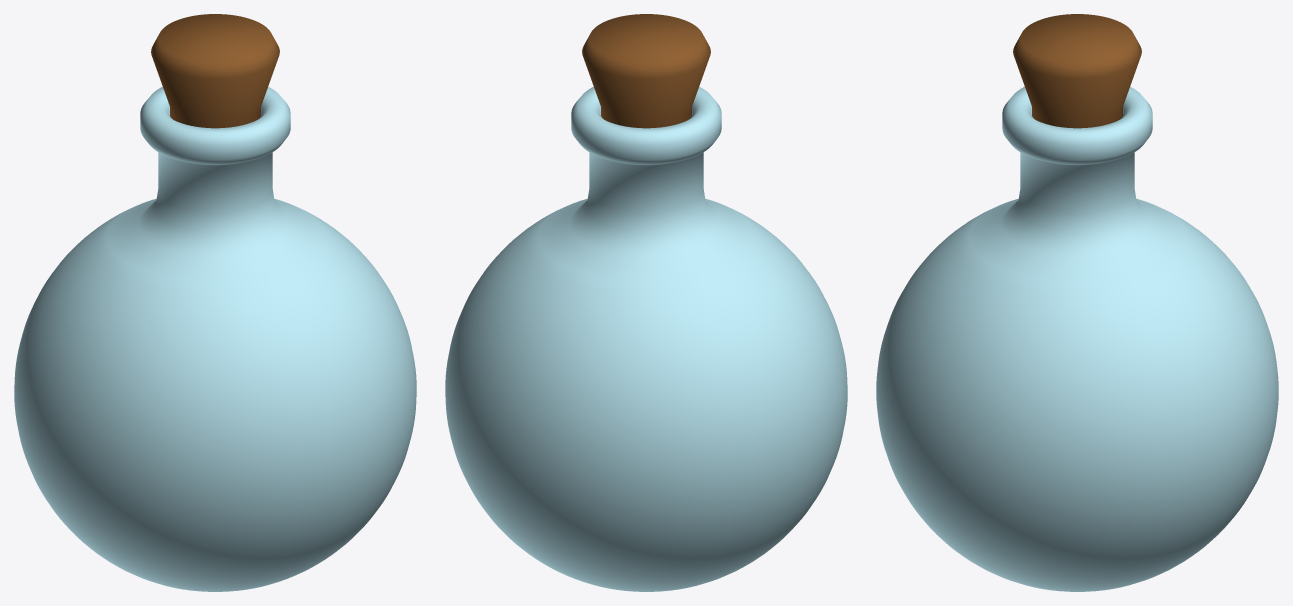
Rendered from potion.glb.
3 views of the same model, side by side, from view 1: azimuth 30°, elevation 25°; view 2: azimuth 150°, elevation 25°; view 3: azimuth 270°, elevation 25° (orthographic).
Visible parts, largest first — view 1: Potion; view 2: Potion; view 3: Potion.
Boxes of the visible parts, x1,y1,x2,y2 form: Potion: [14, 14, 416, 591]; Potion: [445, 14, 847, 591]; Potion: [876, 14, 1278, 591].
Size of the model in its own units: 0.6 by 0.88 by 0.6.
